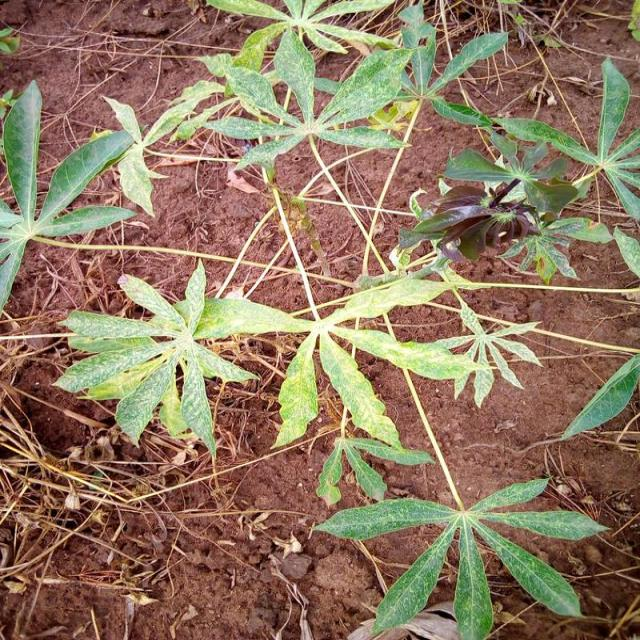cassava leaf: (52, 258, 310, 462), (312, 473, 610, 638)
